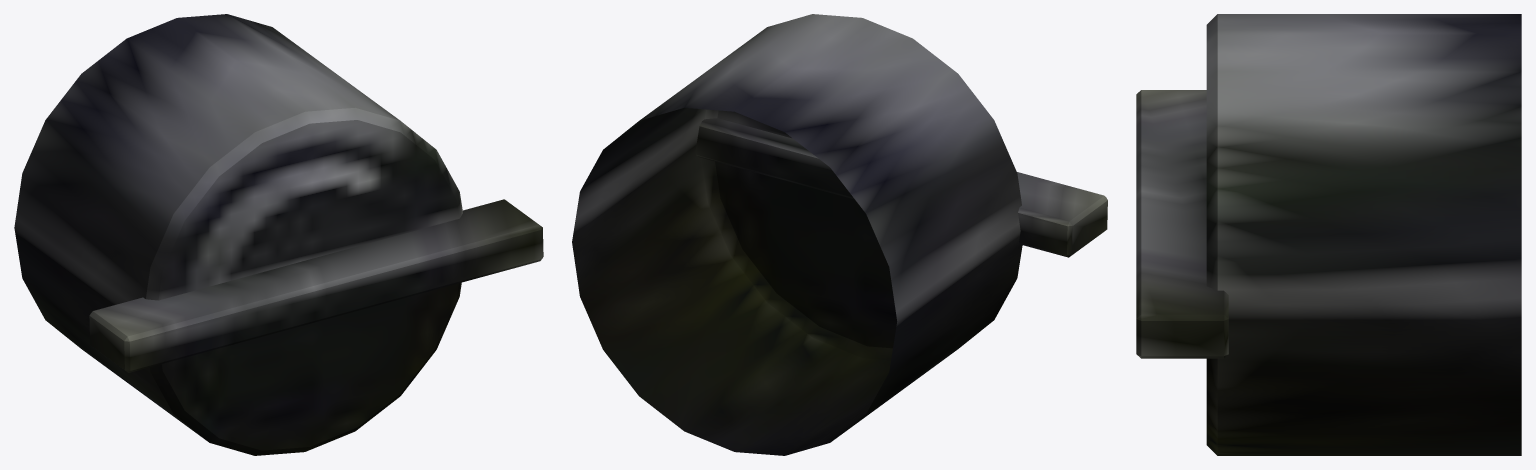
The model's file is channel.glb.
3 renders of one model, left to right at view 1: azimuth 30°, elevation 25°; view 2: azimuth 150°, elevation 25°; view 3: azimuth 270°, elevation 25°, orthographic. The views are drawn at different scales.
Visible parts, largest first — view 1: polySurface6; view 2: polySurface6; view 3: polySurface6.
Part boxes in pixels (x1=…): polySurface6: x1=14, y1=14, x2=543, y2=455; polySurface6: x1=572, y1=14, x2=1107, y2=455; polySurface6: x1=1136, y1=14, x2=1521, y2=455.
Bounding box in the file's own units: 0.0111 × 0.00857 × 0.00741.
1 material, 1 textured.
